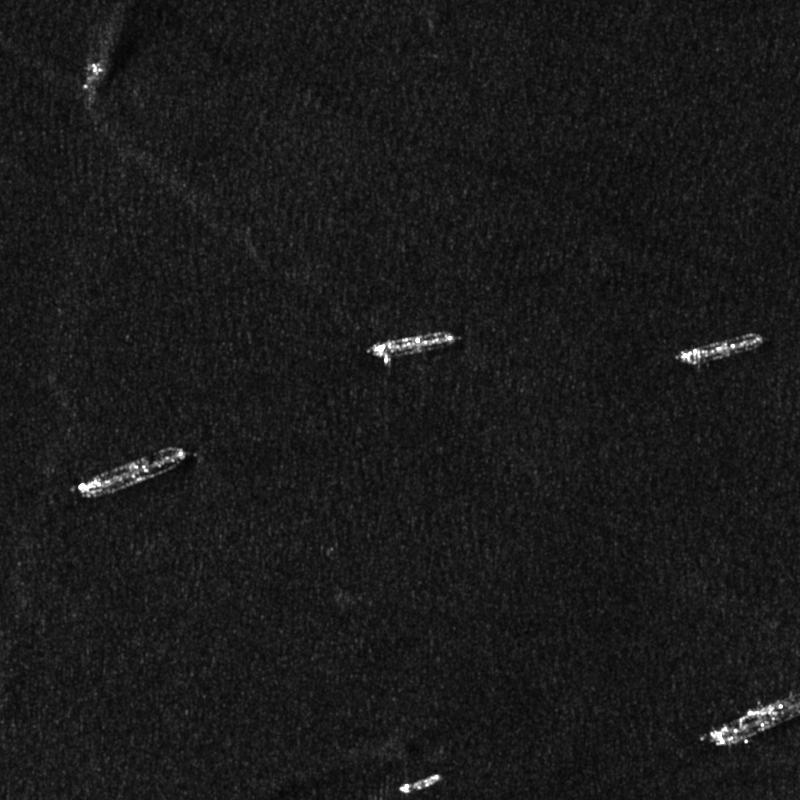ship: (77, 446, 186, 498), (709, 692, 799, 746), (675, 332, 764, 365), (366, 330, 455, 363), (398, 773, 442, 794), (82, 62, 102, 89)
